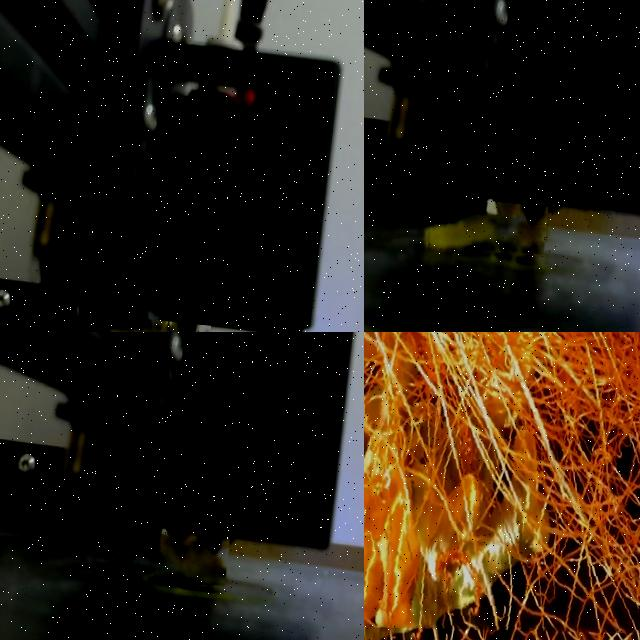spaghetti: (364, 332, 640, 640), (427, 201, 547, 257), (157, 529, 226, 586)
